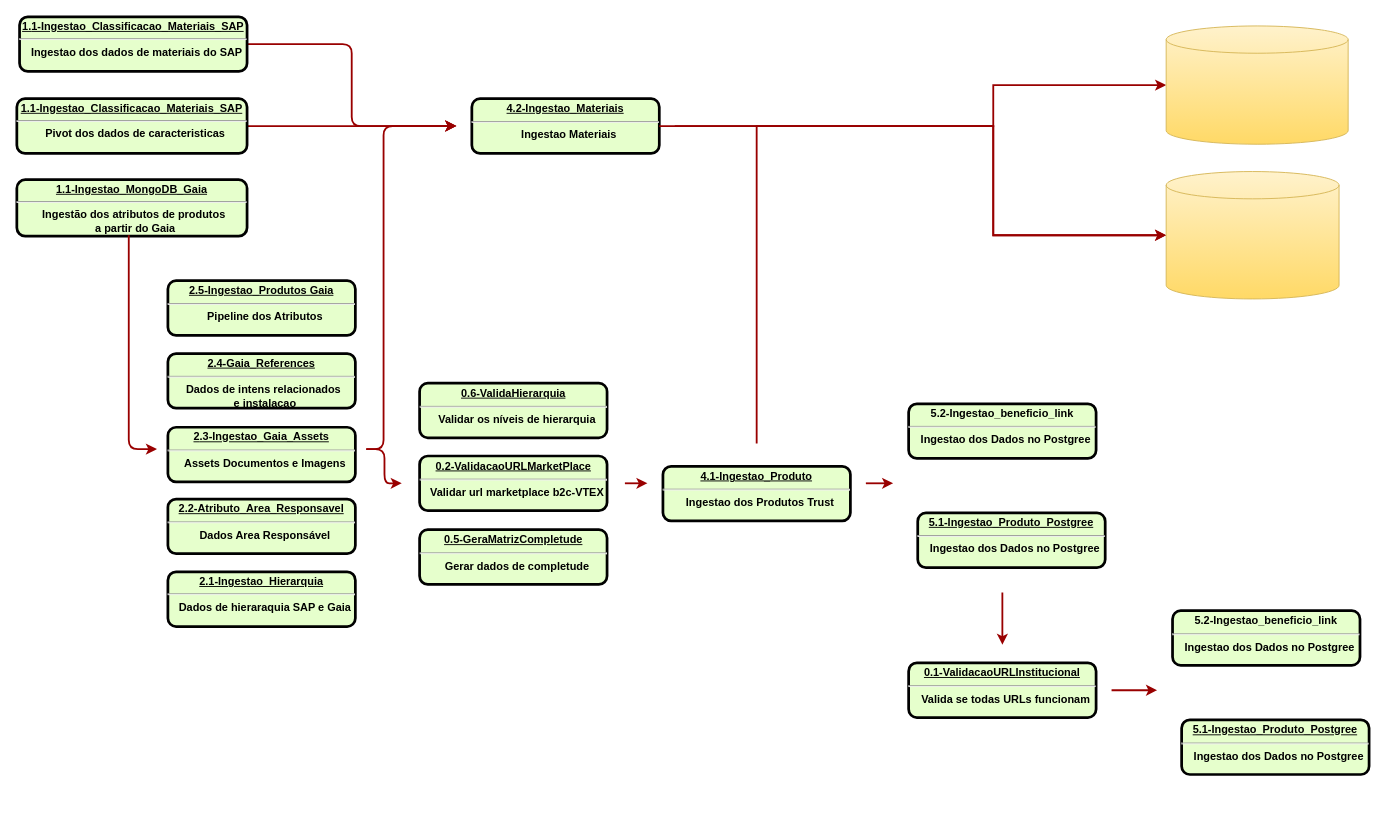
Image size: 1391x815. Some labels were removed from this diagram. The shapes that lost their labels are listed below. From the top down, each one's centre as x and y in pixels, then its label:
point 1256,84: Materiais
point 1252,235: Produtos
